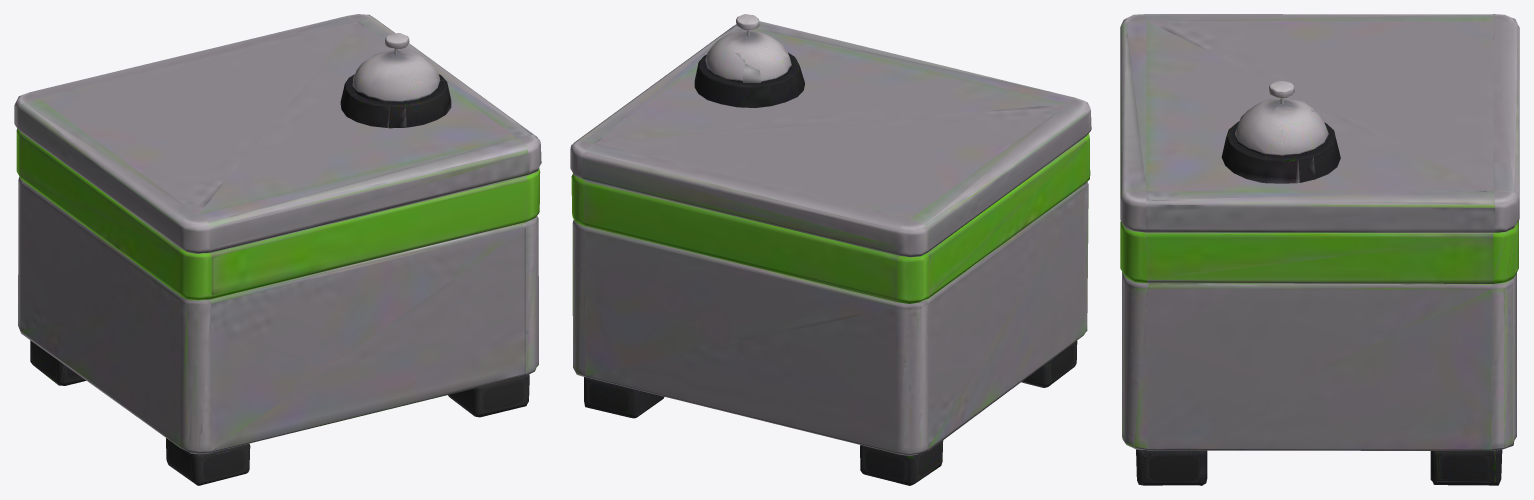
The model's file is pass.glb.
3 renders of one model, left to right at view 1: azimuth 30°, elevation 25°; view 2: azimuth 150°, elevation 25°; view 3: azimuth 270°, elevation 25°, orthographic. The views are drawn at different scales.
Bounding box in the file's own units: 1 × 0.9023 × 0.8887.
1 material, 1 textured.
